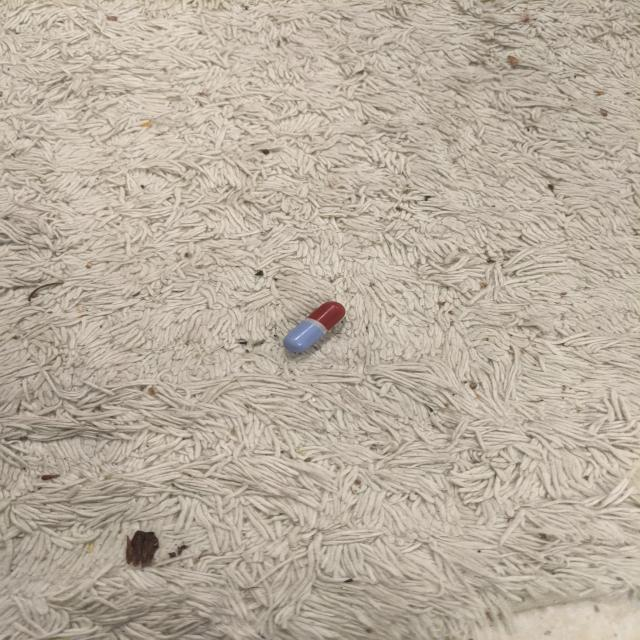non-organic waste: (282, 300, 347, 354)
